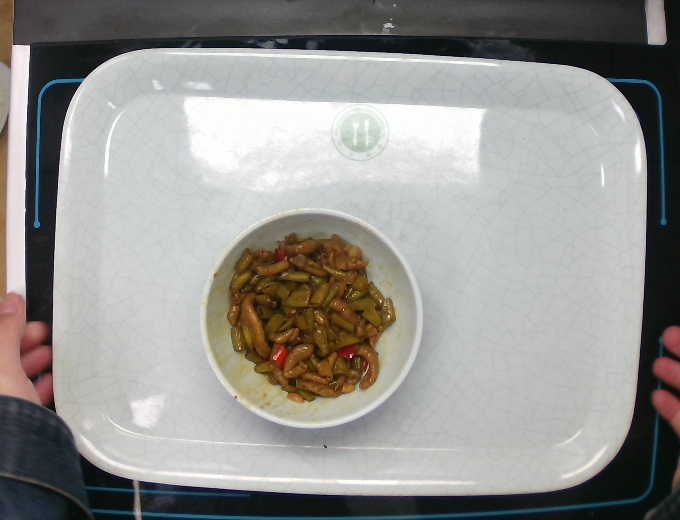JYsf-Fan_Wan: (195, 203, 428, 435)
